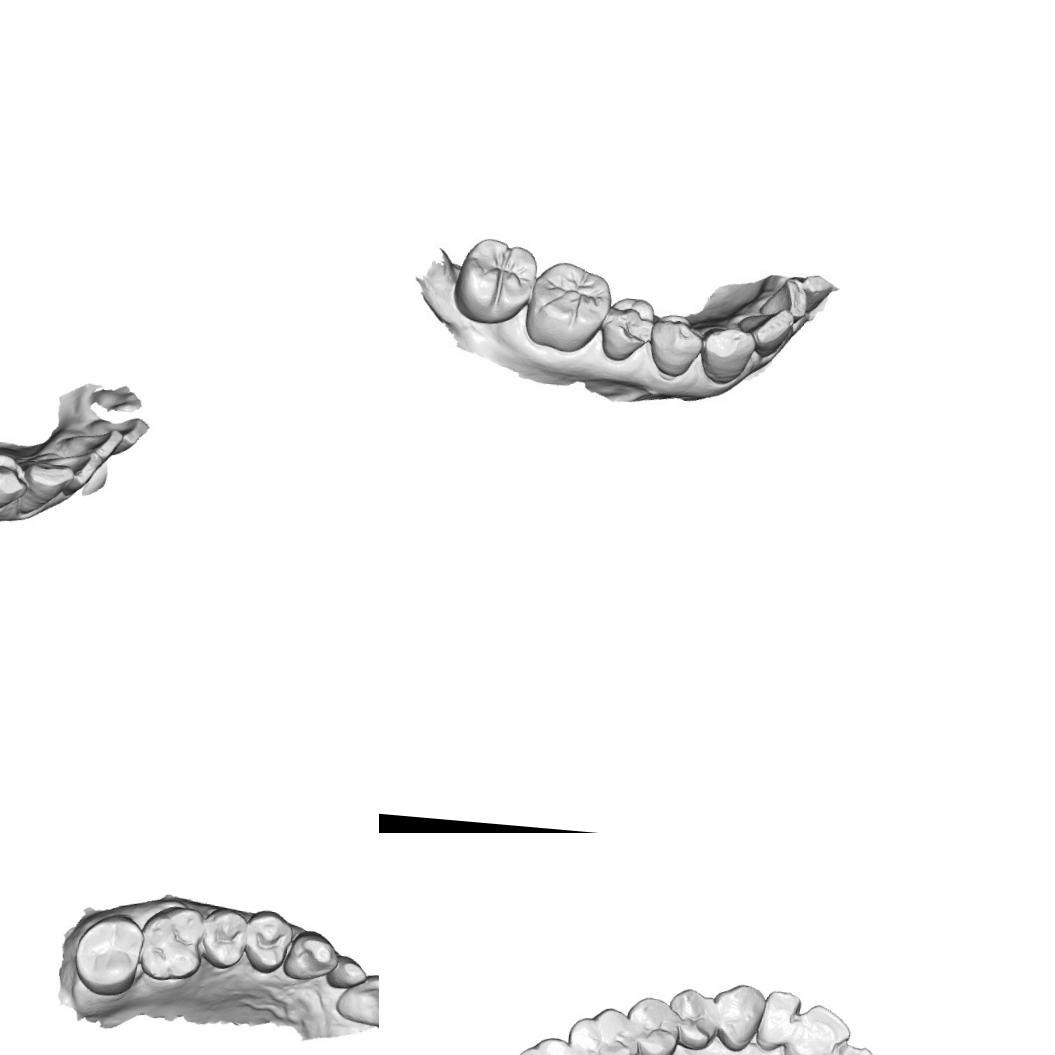canine: (708, 979, 769, 1055), (13, 458, 76, 516), (280, 926, 342, 984), (698, 322, 754, 386)
incisor: (785, 1001, 853, 1055), (756, 986, 803, 1052), (84, 411, 151, 456), (56, 423, 125, 466), (332, 968, 379, 1029), (737, 308, 796, 356), (46, 446, 102, 494), (756, 273, 808, 323), (324, 951, 368, 992), (823, 1042, 885, 1055)
molar: (518, 257, 615, 357), (452, 232, 538, 329), (69, 907, 145, 1000), (134, 900, 208, 984), (561, 1002, 642, 1055), (503, 1031, 588, 1055)
premolar: (597, 289, 659, 365), (642, 310, 706, 382), (240, 906, 296, 977), (664, 984, 720, 1054), (621, 993, 682, 1055), (200, 904, 249, 971), (0, 449, 32, 513)
